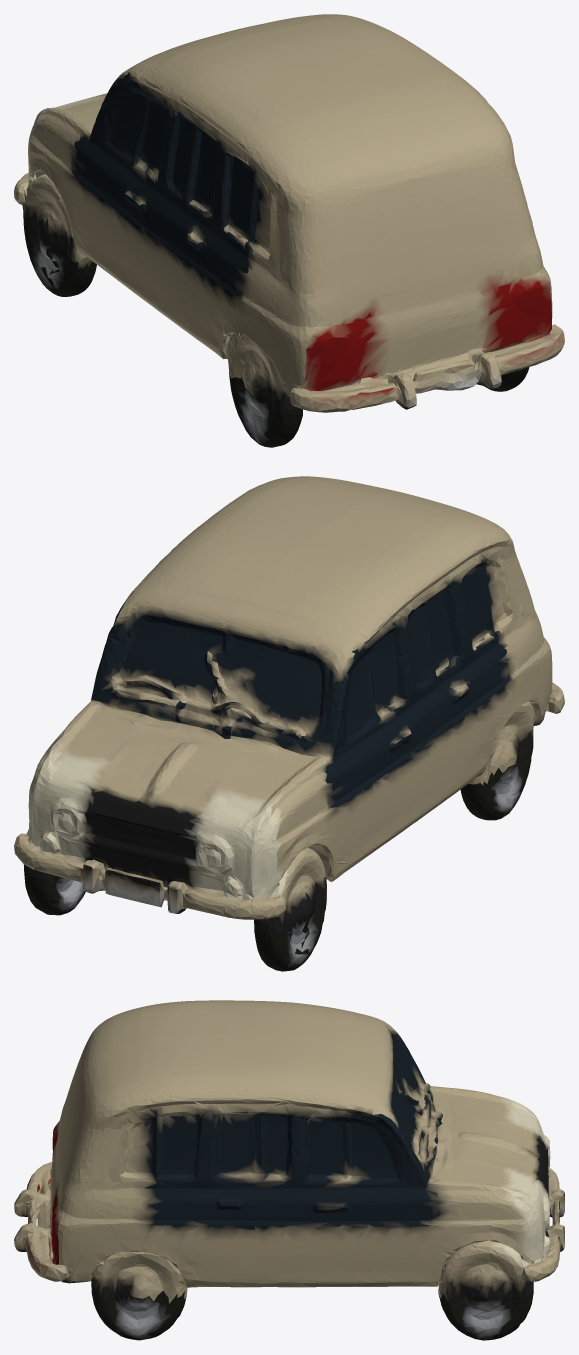
The model's file is renault4.glb.
3 renders of one model, top to bottom at view 1: azimuth 30°, elevation 25°; view 2: azimuth 150°, elevation 25°; view 3: azimuth 270°, elevation 25°, orthographic. The views are drawn at different scales.
Parts seen in each view (by area): view 1: body, wheel_1, wheel_0; view 2: body, wheel_1, wheel_0, wheel_2; view 3: body, wheel_3, wheel_2.
Part boxes in pixels (left/top/right/bottom): body: left=14, top=14, right=564, bottom=412; wheel_1: left=229, top=372, right=302, bottom=447; wheel_0: left=25, top=234, right=96, bottom=296; body: left=14, top=476, right=564, bottom=970; wheel_1: left=460, top=748, right=532, bottom=820; wheel_0: left=254, top=901, right=325, bottom=971; wheel_2: left=24, top=870, right=85, bottom=915; body: left=14, top=1000, right=564, bottom=1303; wheel_3: left=92, top=1290, right=186, bottom=1340; wheel_2: left=439, top=1293, right=533, bottom=1340.
Bounding box in the file's own units: 85.23 × 90.57 × 176.
